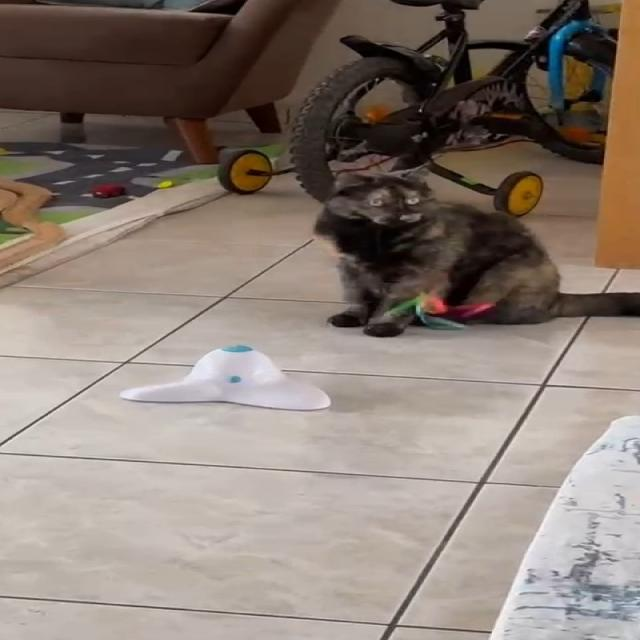authorized: (312, 170, 639, 337)
